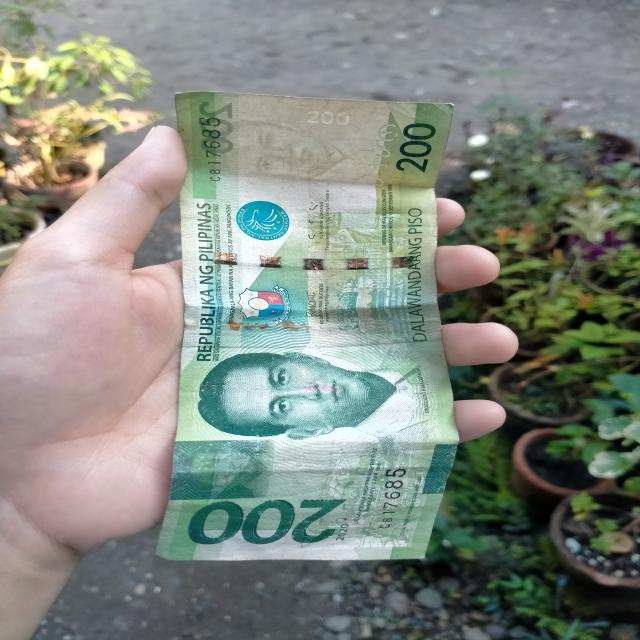concealed_value: (170, 441, 276, 500)
security_thread: (185, 247, 436, 273)
see_through_mark: (362, 111, 404, 193)
serial_number: (366, 460, 410, 540), (190, 112, 227, 190)
value: (175, 495, 353, 549)
value_watermark: (297, 102, 353, 132)
watermark: (220, 118, 372, 200)
